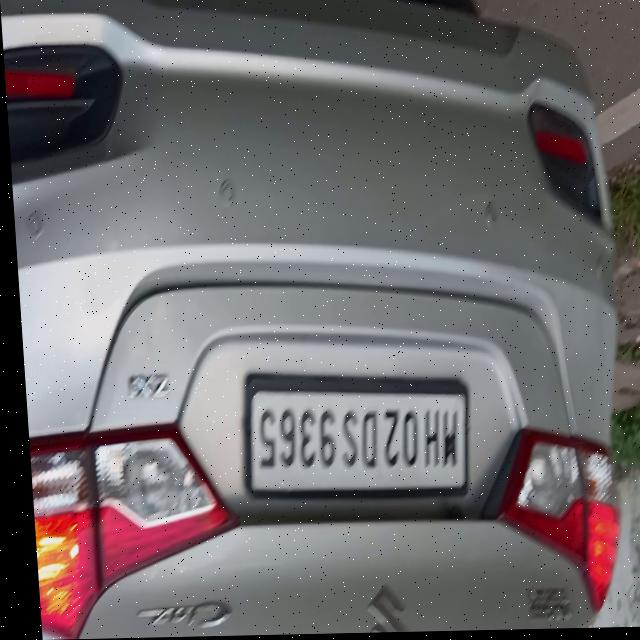plate: (235, 374, 468, 504)
